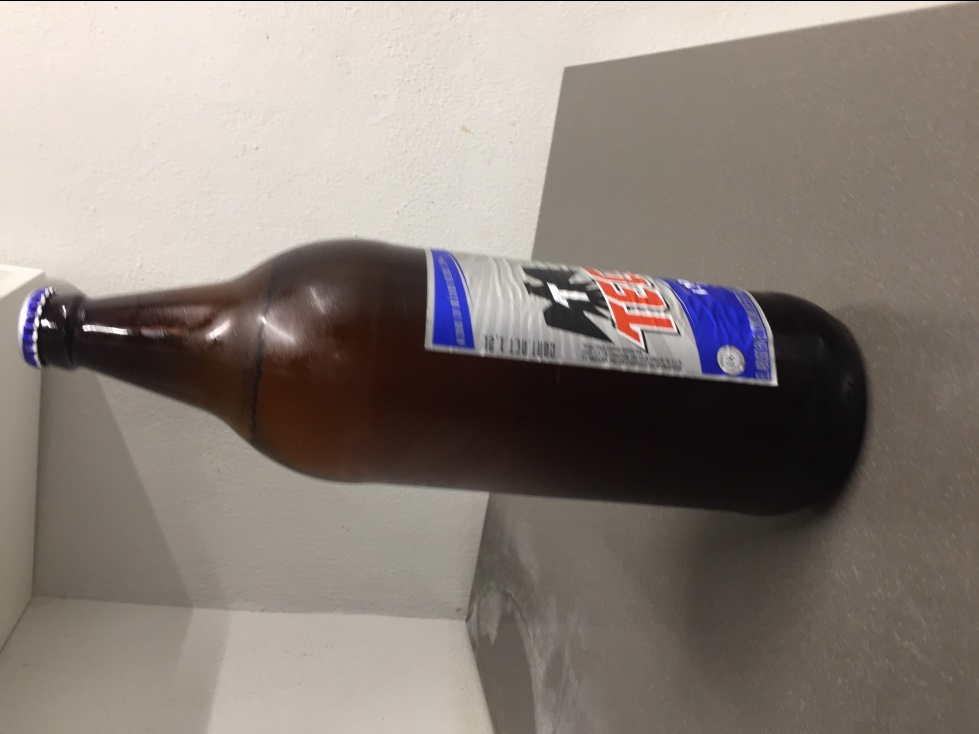tecateC: (21, 220, 864, 518)
